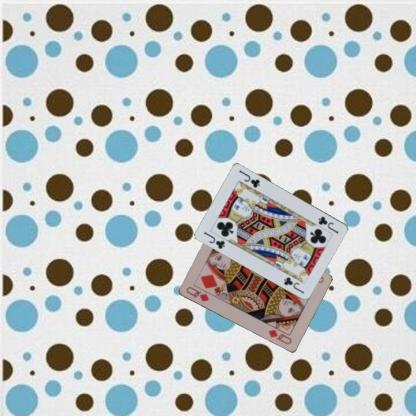Jc: (201, 229, 226, 250), (315, 214, 340, 234)
Qd: (183, 284, 210, 303)
